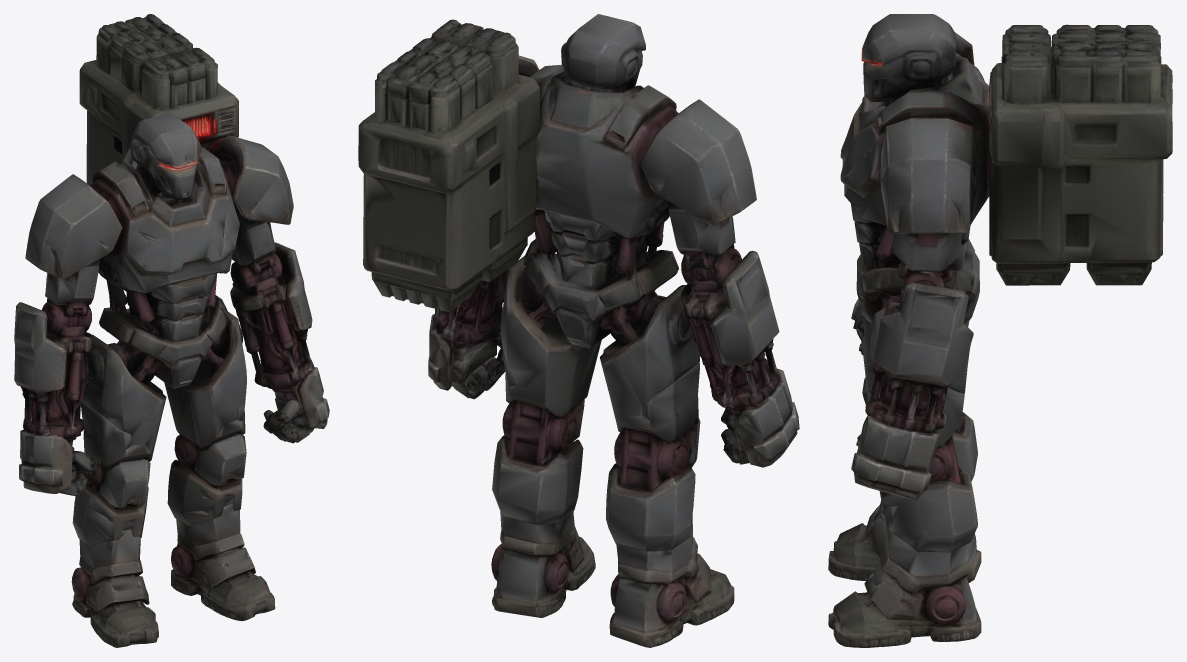
Rendered from Coloso.glb.
3 renders of one model, left to right at view 1: azimuth 30°, elevation 25°; view 2: azimuth 150°, elevation 25°; view 3: azimuth 270°, elevation 25°, orthographic. The views are drawn at different scales.
Visible parts, largest first — view 1: node_0; view 2: node_0; view 3: node_0.
Boxes of the visible parts, x1,y1,x2,y2 form: node_0: (14,14,329,647); node_0: (358,14,799,647); node_0: (828,14,1172,647).
Size of the model in its own units: 1.63 by 2.6 by 1.36.
Materials: 1 (1 with a texture image).
